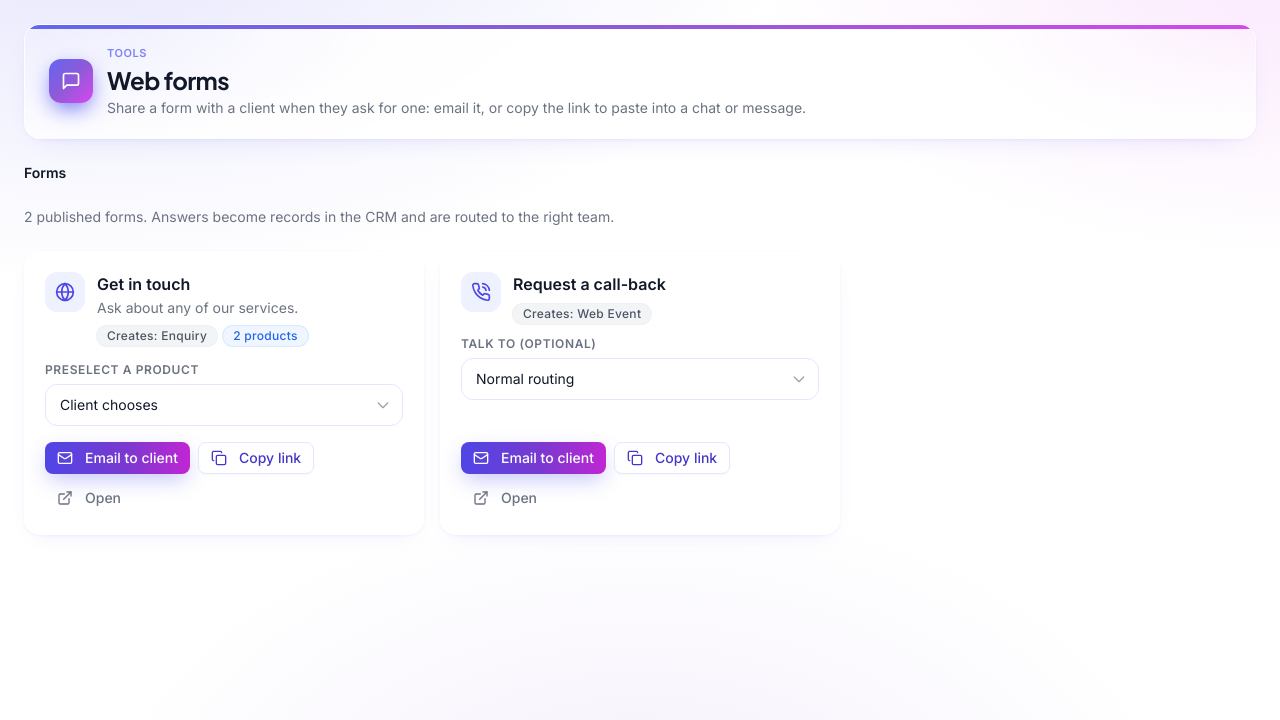
Test case: WebFormsPage › emails the form to a client
The width and height of the screenshot is (1280, 720).
Click the button "Email to client" below "Talk to (optional)": (534, 458) [461,442,606,474]
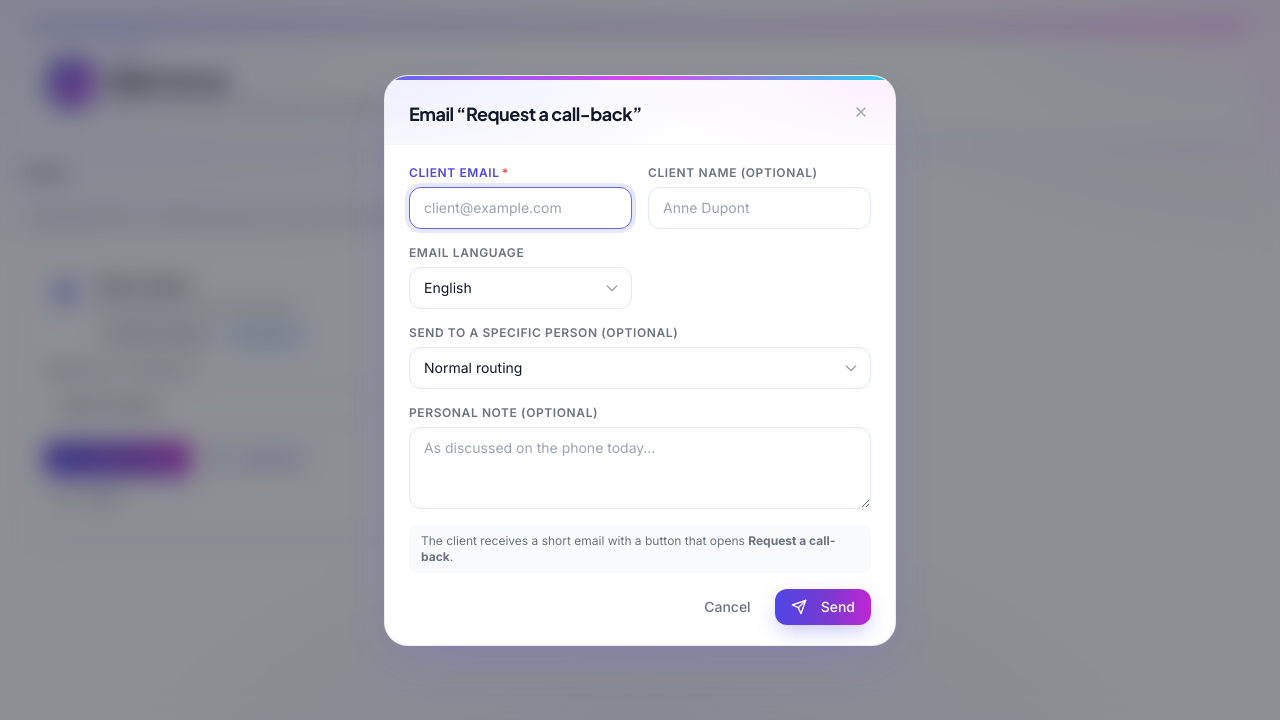
In the field labelled "Client email*": (520, 208) [409,186,632,228], type "anne@example.mu"
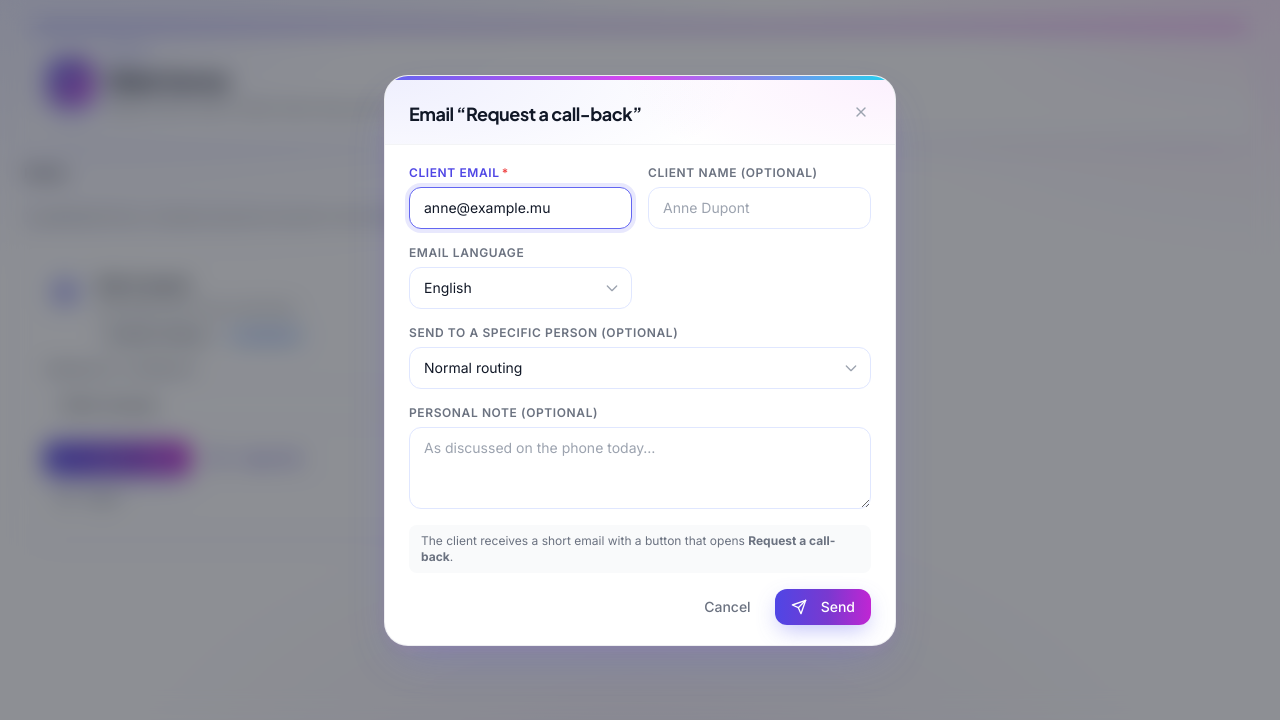
In the field labelled "Client name (optional)": (760, 208) [648,186,871,228], type "Anne"
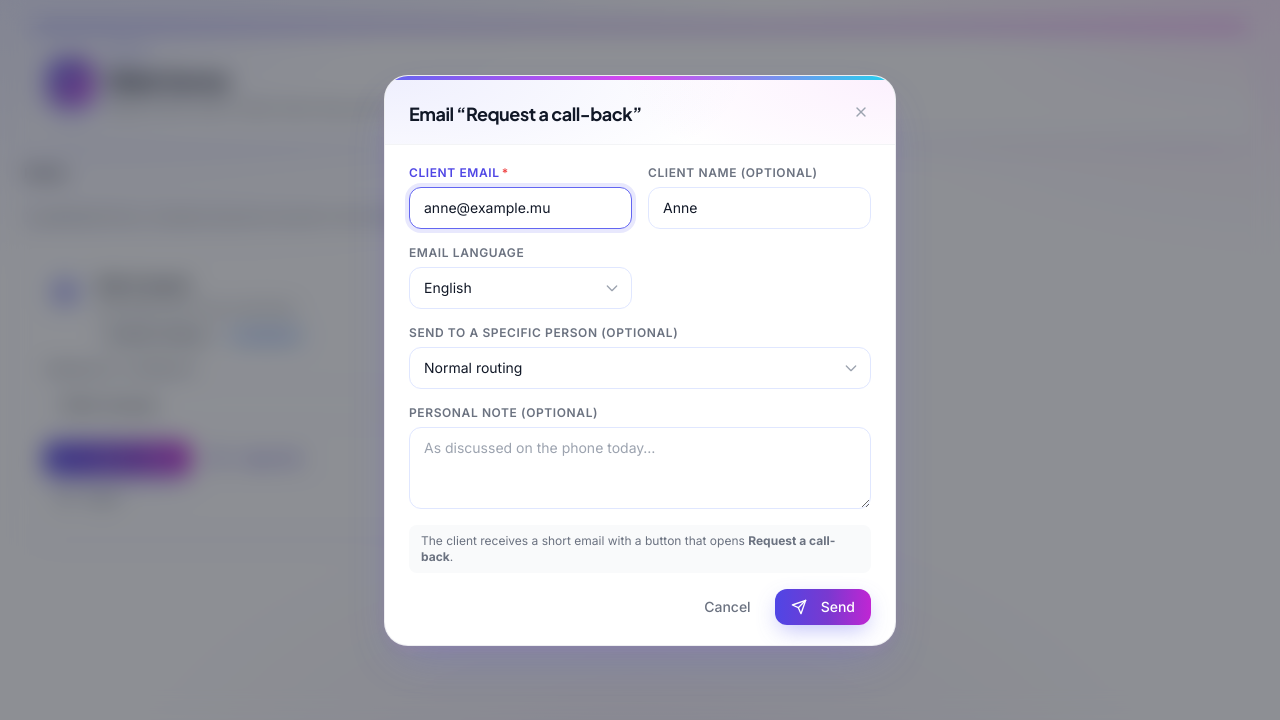
Click the button "Send": (823, 606) [775,588,871,624]
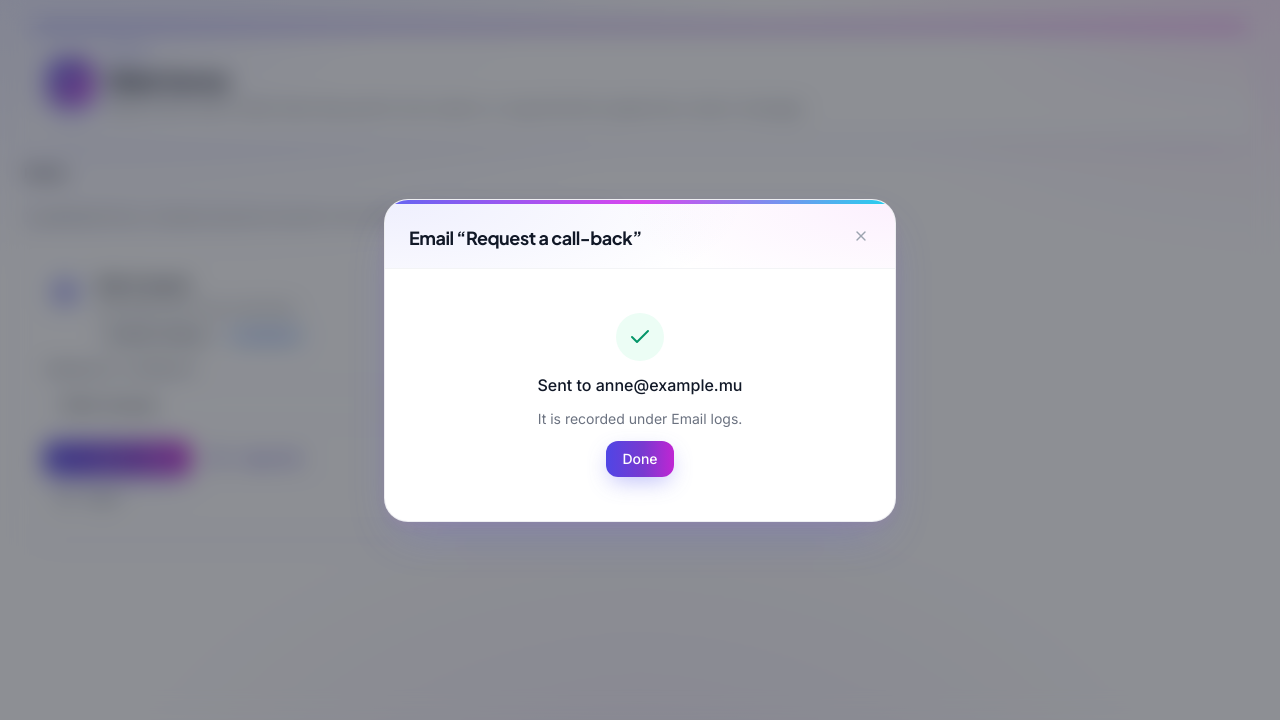
Now the text "Sent to anne@example.mu" is shown, box [538,372,742,396]
